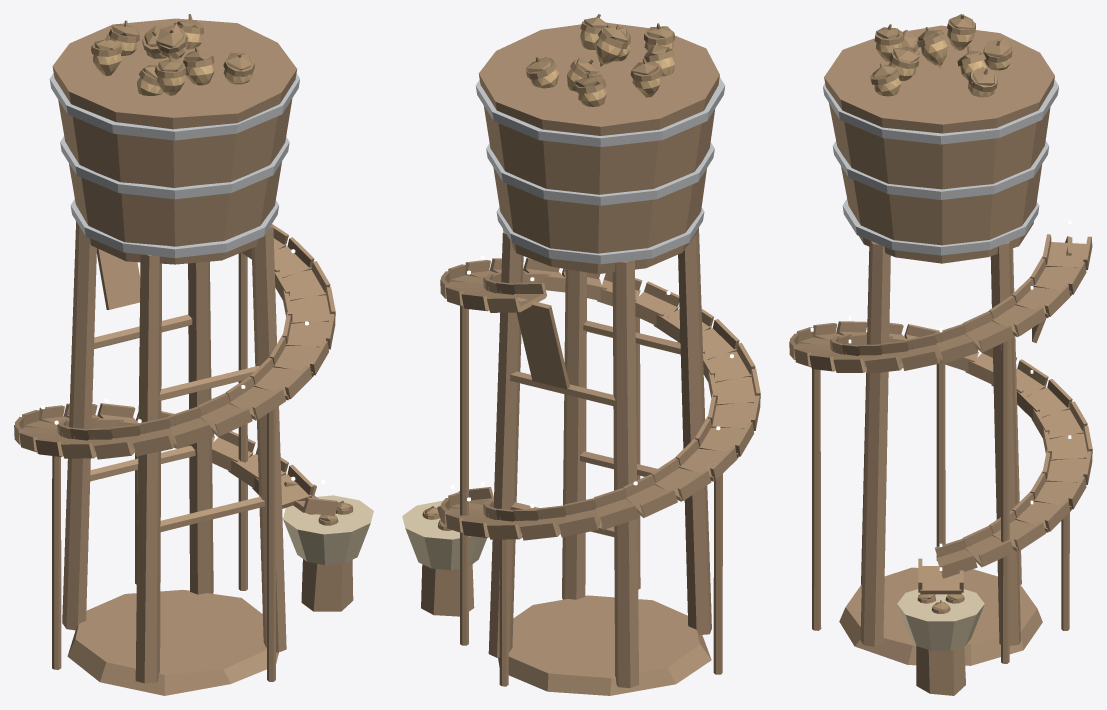
File: acorn_dispenser_noroof.fbx
The picture shows the model from 3 angles, left to right: view 1: azimuth 30°, elevation 25°; view 2: azimuth 150°, elevation 25°; view 3: azimuth 270°, elevation 25°; orthographic projection. The views are drawn at different scales.
Visible parts, largest first — view 1: AcornDispenser_Wood, AcornDispenser_Logs, AcornDispenser_Bands, AcornDispenser_Caps, AcornDispenser_Basket, AcornDispenser_Nuts; view 2: AcornDispenser_Wood, AcornDispenser_Logs, AcornDispenser_Bands, AcornDispenser_Caps, AcornDispenser_Basket, AcornDispenser_Nuts; view 3: AcornDispenser_Wood, AcornDispenser_Logs, AcornDispenser_Bands, AcornDispenser_Caps, AcornDispenser_Basket, AcornDispenser_Nuts.
Boxes of the visible parts, x1,y1,x2,y2 form: AcornDispenser_Wood: (14, 18, 338, 515); AcornDispenser_Logs: (52, 221, 353, 695); AcornDispenser_Bands: (49, 73, 299, 257); AcornDispenser_Caps: (91, 14, 353, 525); AcornDispenser_Basket: (283, 495, 373, 565); AcornDispenser_Nuts: (92, 32, 340, 525); AcornDispenser_Wood: (437, 22, 760, 540); AcornDispenser_Logs: (421, 228, 722, 695); AcornDispenser_Bands: (475, 77, 725, 264); AcornDispenser_Caps: (422, 14, 675, 530); AcornDispenser_Basket: (402, 500, 486, 570); AcornDispenser_Nuts: (431, 30, 675, 519); AcornDispenser_Wood: (789, 25, 1092, 594); AcornDispenser_Logs: (812, 240, 1069, 695); AcornDispenser_Bands: (823, 79, 1058, 255); AcornDispenser_Caps: (870, 14, 1012, 613); AcornDispenser_Basket: (897, 589, 984, 650); AcornDispenser_Nuts: (874, 30, 1010, 603).
Bounding box in the file's own units: 13.16 × 23.87 × 11.07.
